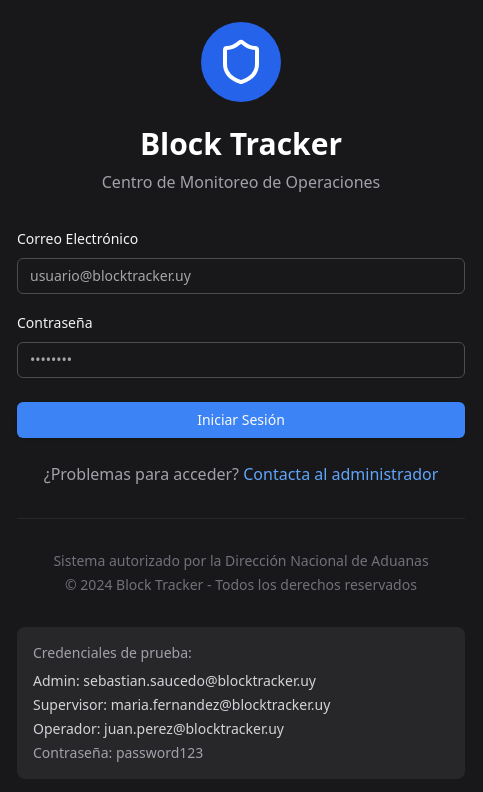
it: LoginPage › displays error message on login failure
Step 1. Type "test@cmo.com" into the field labelled "Correo Electrónico" → (241, 276), box [17, 258, 465, 294]
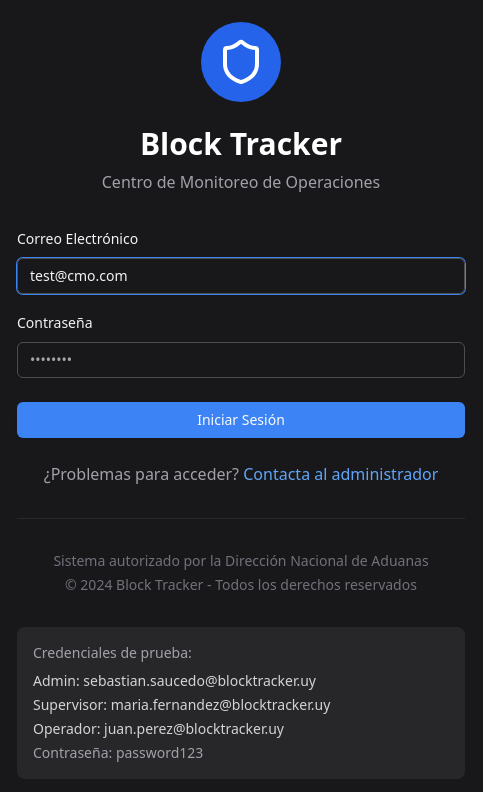
Step 2. Type "wrong-password" into the password field labelled "Contraseña" → (241, 360), box [17, 342, 465, 378]
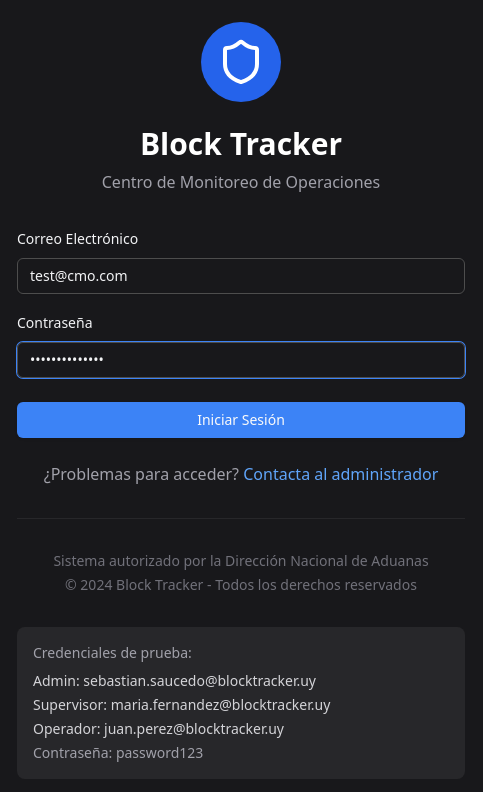
Step 3. Click the button "Iniciar Sesión" → (241, 420), box [17, 402, 465, 438]
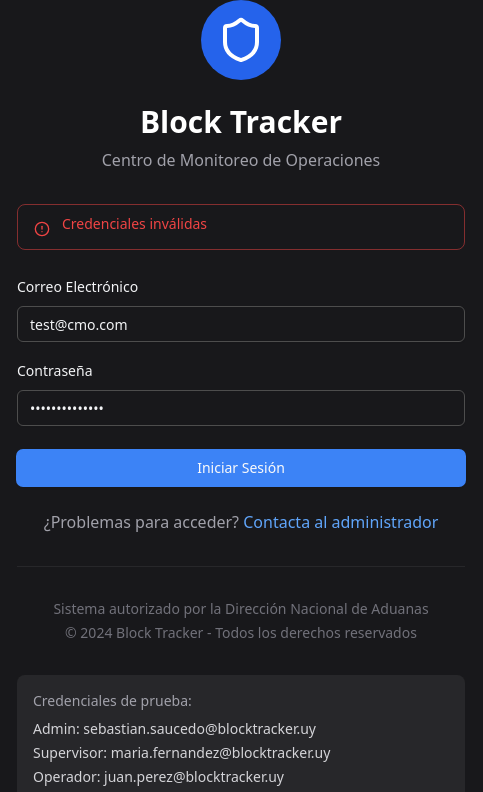
Now the text "Credenciales inválidas" is shown, box [62, 214, 207, 233]
